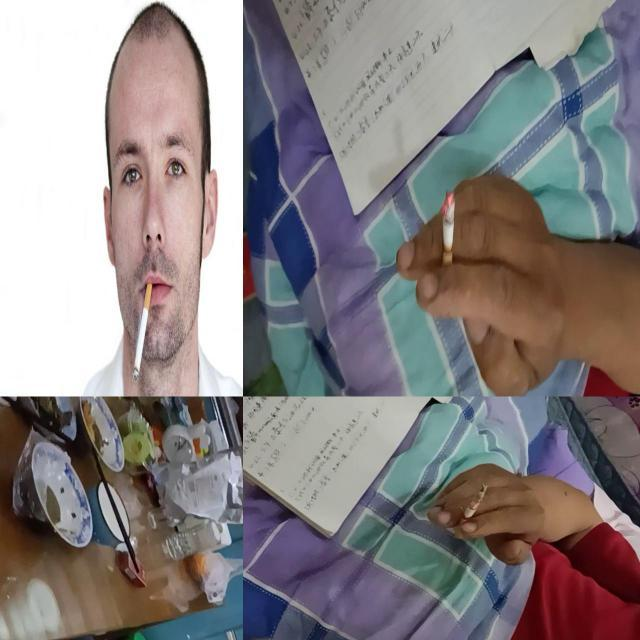cigarette: (133, 282, 153, 384), (453, 484, 489, 540), (442, 190, 456, 278)
